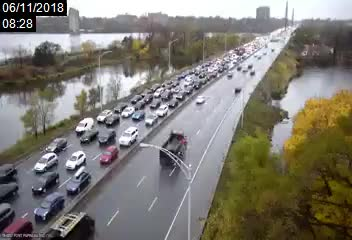congestion: (1, 129, 122, 238), (81, 89, 169, 141), (148, 68, 207, 103), (193, 58, 228, 79)
personal_car: (34, 192, 64, 222), (30, 171, 60, 194), (65, 170, 93, 193), (34, 152, 59, 174), (62, 151, 88, 170), (1, 177, 19, 203), (96, 145, 120, 164), (1, 158, 17, 186), (119, 127, 137, 147), (46, 138, 67, 155), (76, 116, 93, 134), (97, 128, 116, 144), (80, 127, 96, 146), (97, 107, 111, 123), (144, 113, 158, 126), (133, 108, 146, 122), (106, 113, 119, 127), (121, 105, 134, 118), (156, 104, 167, 118), (113, 102, 128, 112), (193, 94, 205, 106), (161, 88, 173, 99), (149, 97, 161, 108), (167, 97, 178, 108), (134, 99, 145, 110), (175, 89, 185, 101), (161, 78, 172, 87), (150, 82, 161, 91), (153, 87, 164, 96), (131, 94, 141, 103), (183, 85, 192, 94), (141, 89, 150, 98), (233, 85, 242, 94), (172, 75, 180, 85), (192, 78, 200, 88), (172, 84, 180, 93), (144, 94, 151, 104), (183, 80, 191, 87), (227, 70, 234, 77)
truck: (157, 128, 188, 169)
